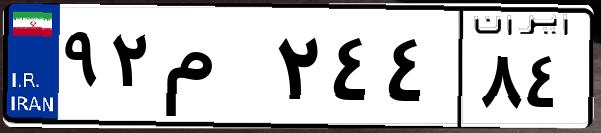2: (270, 28, 330, 110), (110, 28, 158, 98)
4: (385, 28, 445, 110), (330, 28, 385, 110), (525, 38, 570, 115)
8: (475, 38, 525, 113)
9: (57, 26, 110, 100)
م: (158, 20, 270, 120)
